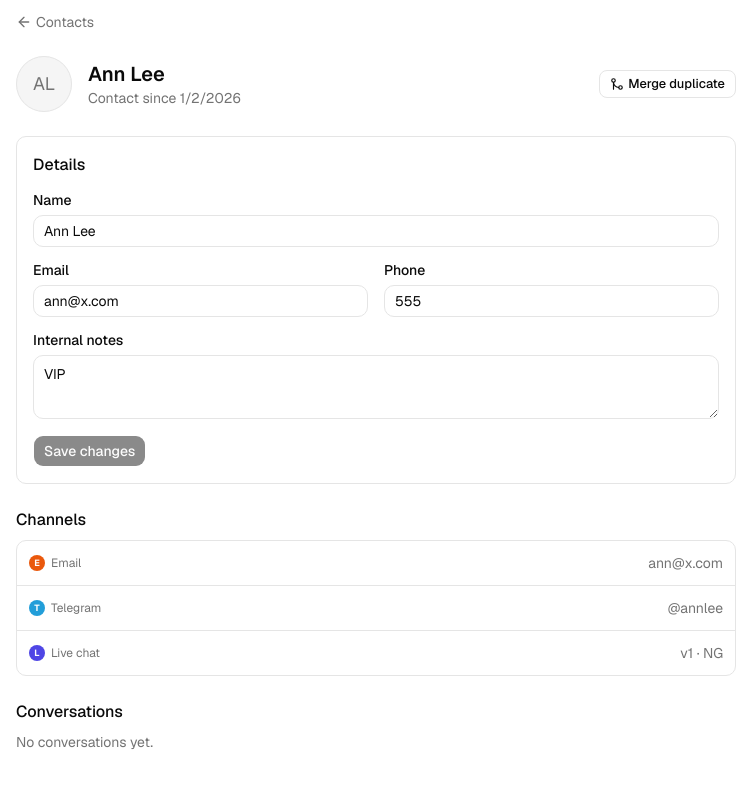
Scenario: Contact detail page › shows the server's message when saving fails
This screenshot has width=753, height=803.
Replace the text in the field labelled "Email" with "taken@x.com" at (200, 301), box [33,285,368,317]
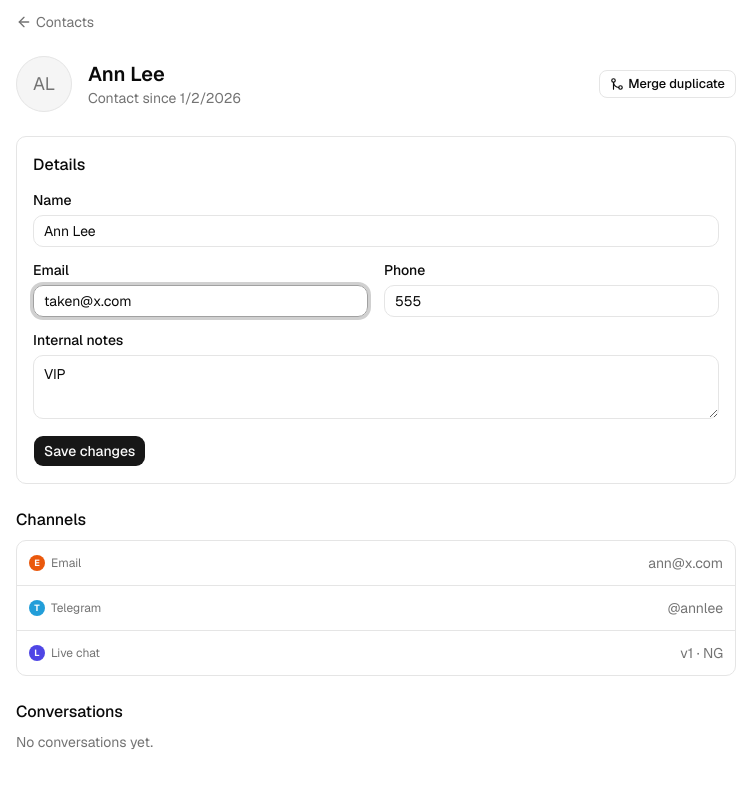
Click the button "Save changes".
click(90, 451)  # box [33,435,146,467]
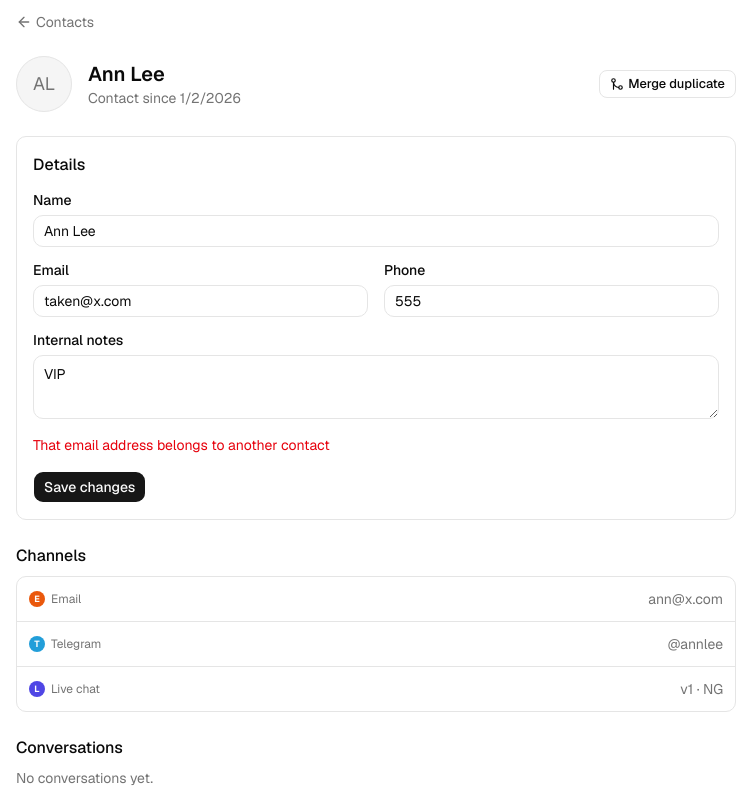
Expected: the text "That email address belongs to another contact" is shown, [33,436,330,454]
